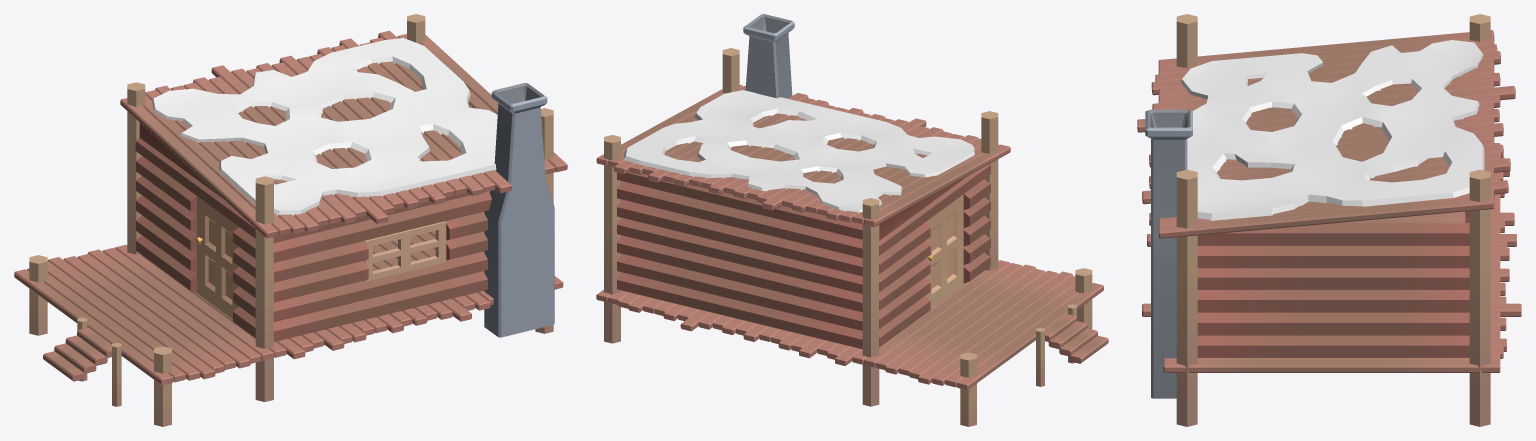
File: Cabin_Mesh_01.fbx
The picture shows the model from 3 angles, left to right: view 1: azimuth 30°, elevation 25°; view 2: azimuth 150°, elevation 25°; view 3: azimuth 270°, elevation 25°; orthographic projection. The views are drawn at different scales.
Parts seen in each view (by area): view 1: Cabin_01; view 2: Cabin_01; view 3: Cabin_01.
Part boxes in pixels (x1,y1,x2,y2): Cabin_01: (14,14,567,426); Cabin_01: (596,14,1108,426); Cabin_01: (1137,14,1521,426).
Bounding box in the file's own units: 12.13 × 6.41 × 7.85.
